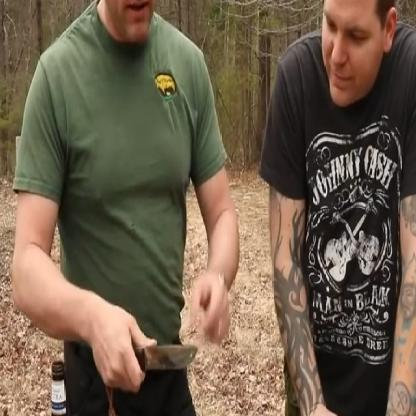knife: (91, 319, 212, 399)
